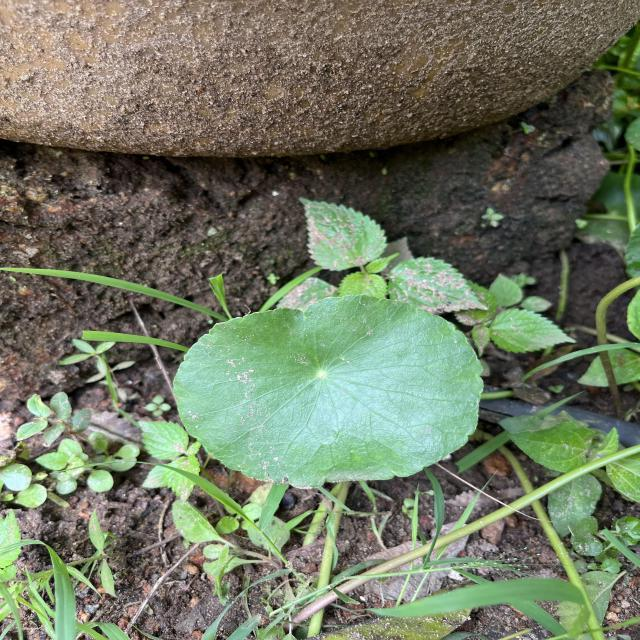Bacopa monnieri: (170, 292, 487, 492)
